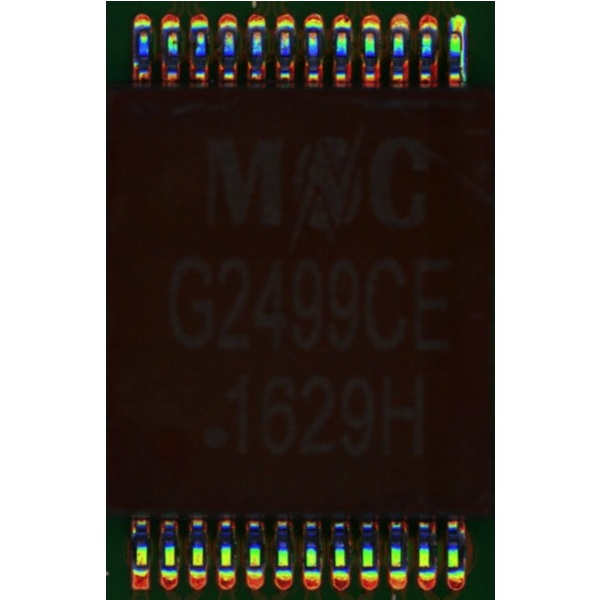Bad_podu: (451, 25, 463, 37)
Bad_qiaojiao: (459, 37, 465, 80)
